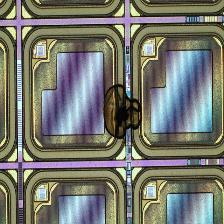PARTICLE: (103, 83, 145, 141)
